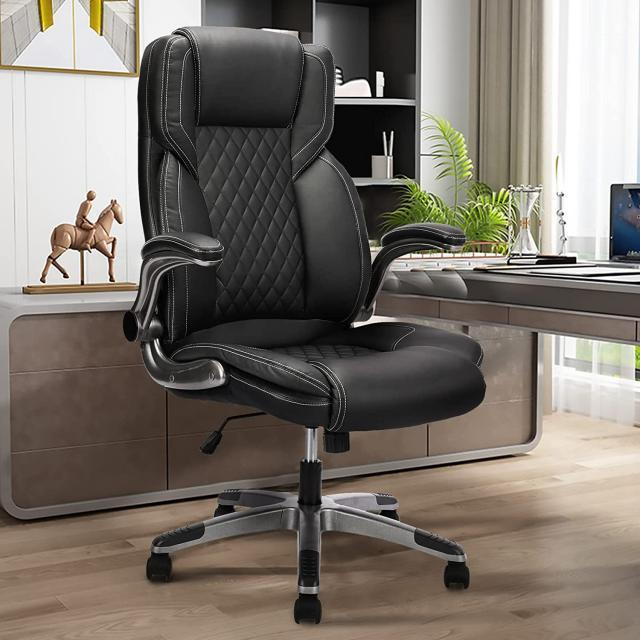chair: (104, 8, 490, 640)
